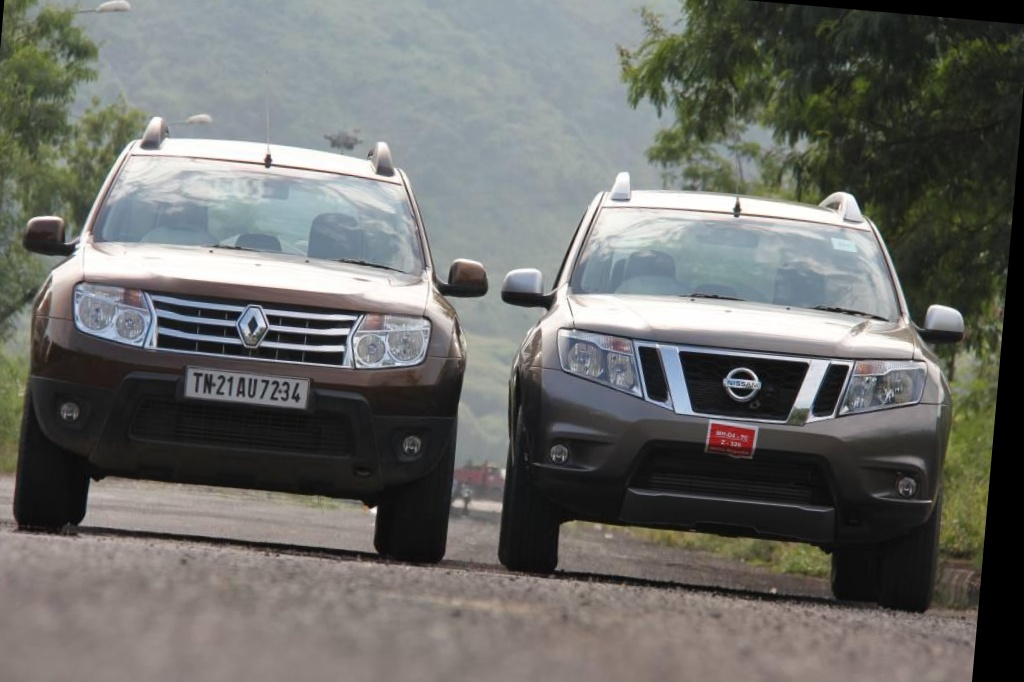car: (469, 143, 1015, 627), (0, 79, 506, 584)
